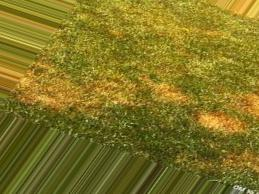patch: (53, 78, 95, 98), (202, 114, 233, 129), (25, 75, 48, 93), (243, 97, 259, 108), (156, 89, 171, 94)
